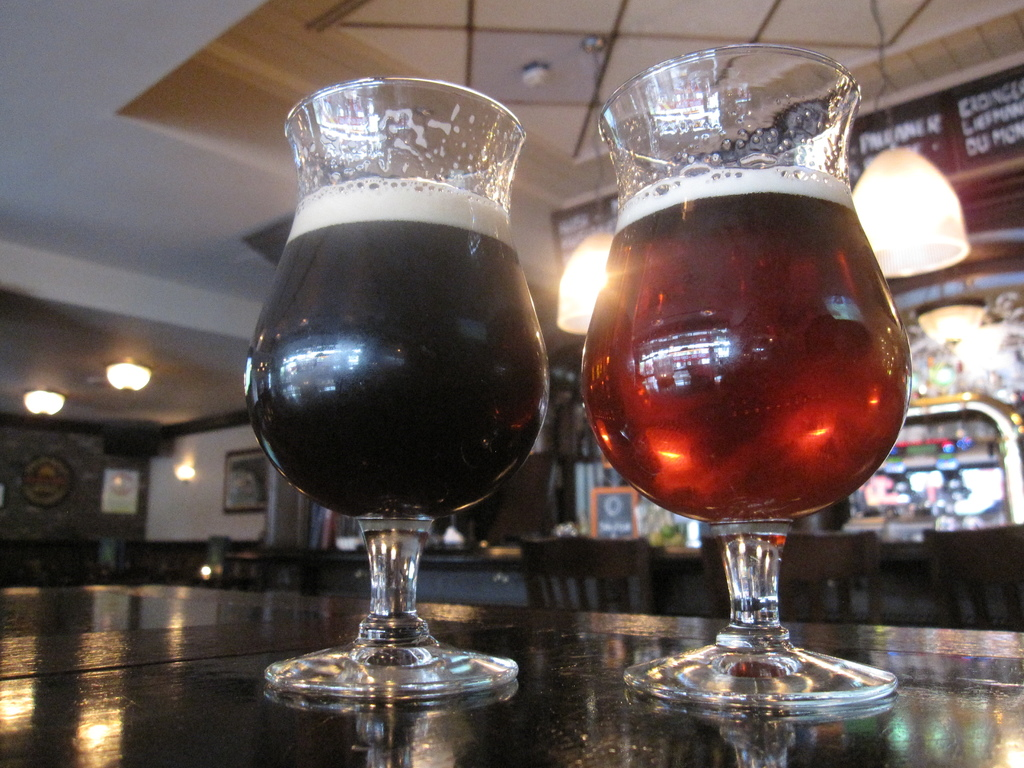Beer: (582, 165, 912, 516), (245, 181, 548, 514)
